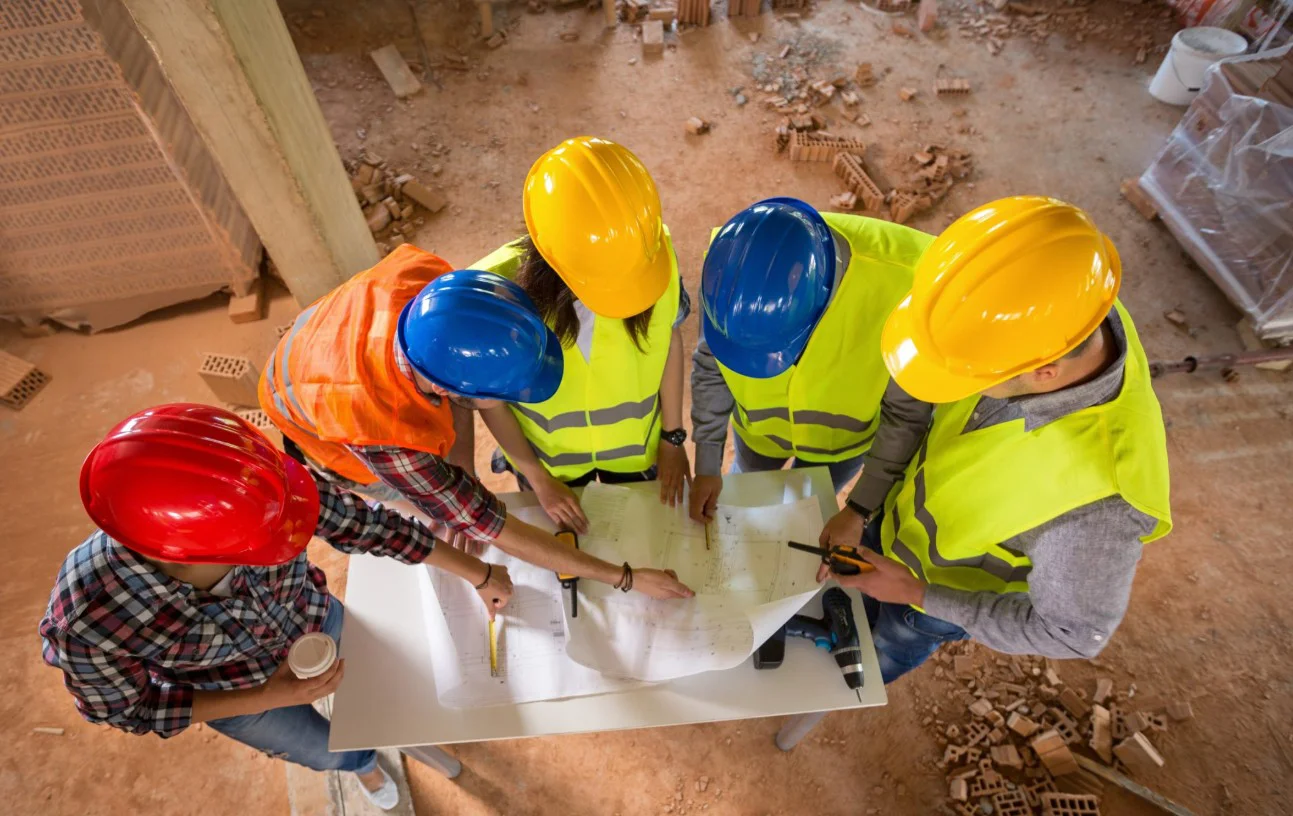Casco de seguridad: (881, 196, 1121, 402), (80, 403, 319, 565), (523, 136, 671, 317), (701, 197, 836, 377), (397, 269, 563, 401)
